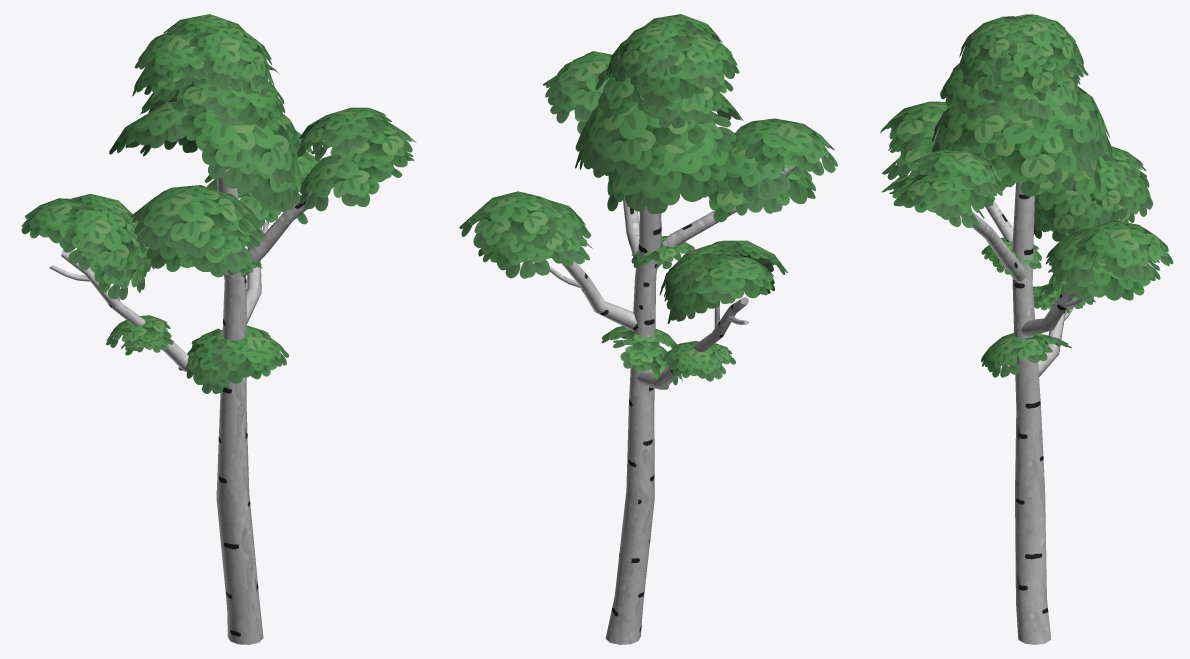
File: quaternius-textured-stylized-trees-birch-10.glb
The picture shows the model from 3 angles, left to right: view 1: azimuth 30°, elevation 25°; view 2: azimuth 150°, elevation 25°; view 3: azimuth 270°, elevation 25°; orthographic projection. The views are drawn at different scales.
Parts seen in each view (by area): view 1: Birch_10; view 2: Birch_10; view 3: Birch_10.
Part boxes in pixels (<box>): Birch_10: <box>21,14,416,644</box>; Birch_10: <box>459,14,837,644</box>; Birch_10: <box>880,14,1173,644</box>.
Size of the model in its own units: 5.36 by 10.23 by 4.74.
Materials: 2 (2 with a texture image).
